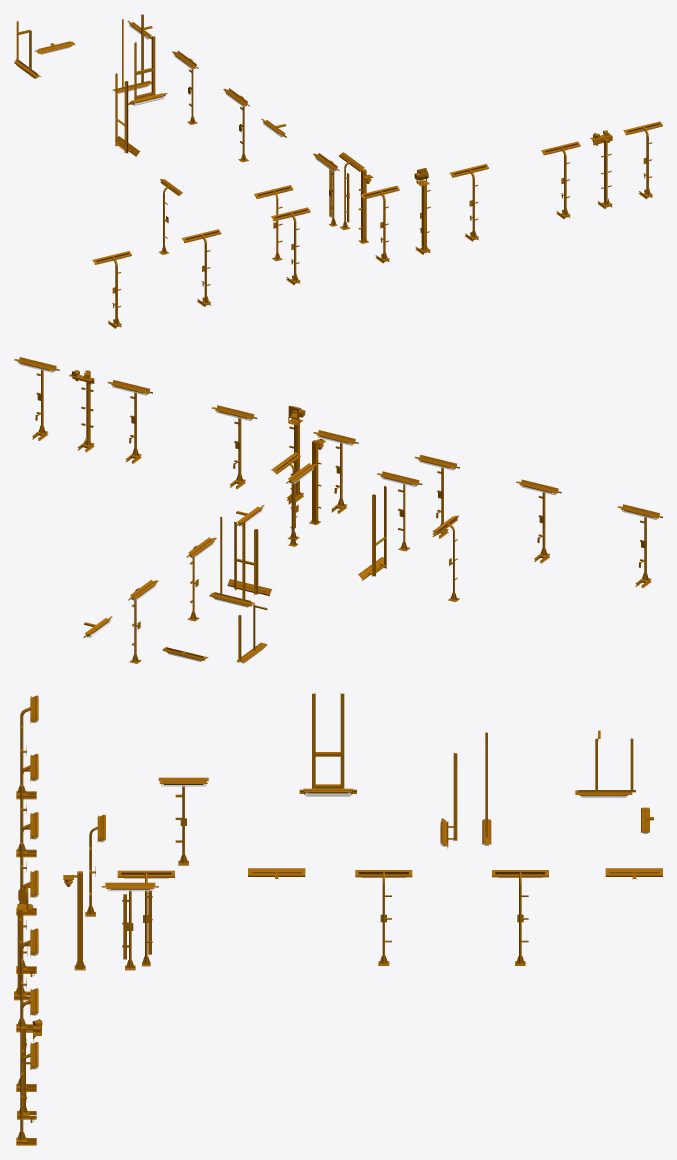
The model's file is Zone_P2_Elec_Lighting_01.fbx.
3 views of the same model, one above another, from view 1: azimuth 30°, elevation 25°; view 2: azimuth 150°, elevation 25°; view 3: azimuth 270°, elevation 25° (orthographic). The views are drawn at different scales.
Visible parts, largest first — view 1: Eqp_Elec_lighting_01, Eqp_Elec_lighting_01B; view 2: Eqp_Elec_lighting_01, Eqp_Elec_lighting_01B; view 3: Eqp_Elec_lighting_01, Eqp_Elec_lighting_01B.
Part boxes in pixels (left/top/right/bottom): Eqp_Elec_lighting_01: left=14, top=14, right=662, bottom=328; Eqp_Elec_lighting_01B: left=18, top=24, right=656, bottom=263; Eqp_Elec_lighting_01: left=14, top=357, right=662, bottom=663; Eqp_Elec_lighting_01B: left=18, top=362, right=657, bottom=663; Eqp_Elec_lighting_01: left=14, top=692, right=662, bottom=1145; Eqp_Elec_lighting_01B: left=33, top=720, right=647, bottom=1069.
Size of the model in its own units: 2451 by 562 by 1814.
